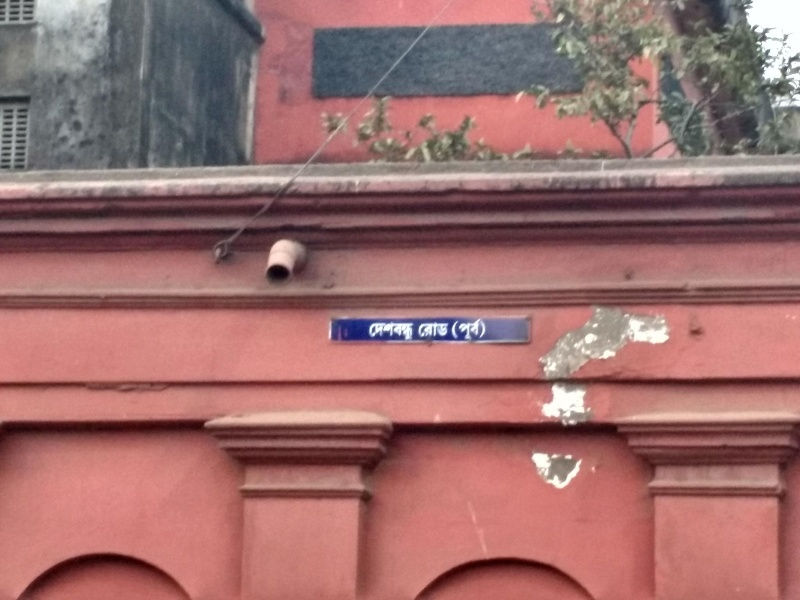text: (465, 317, 480, 341), (385, 321, 400, 341), (401, 321, 415, 341), (453, 317, 464, 341), (371, 321, 384, 341), (433, 321, 448, 338), (418, 321, 432, 338), (481, 317, 488, 341), (449, 321, 453, 338)
